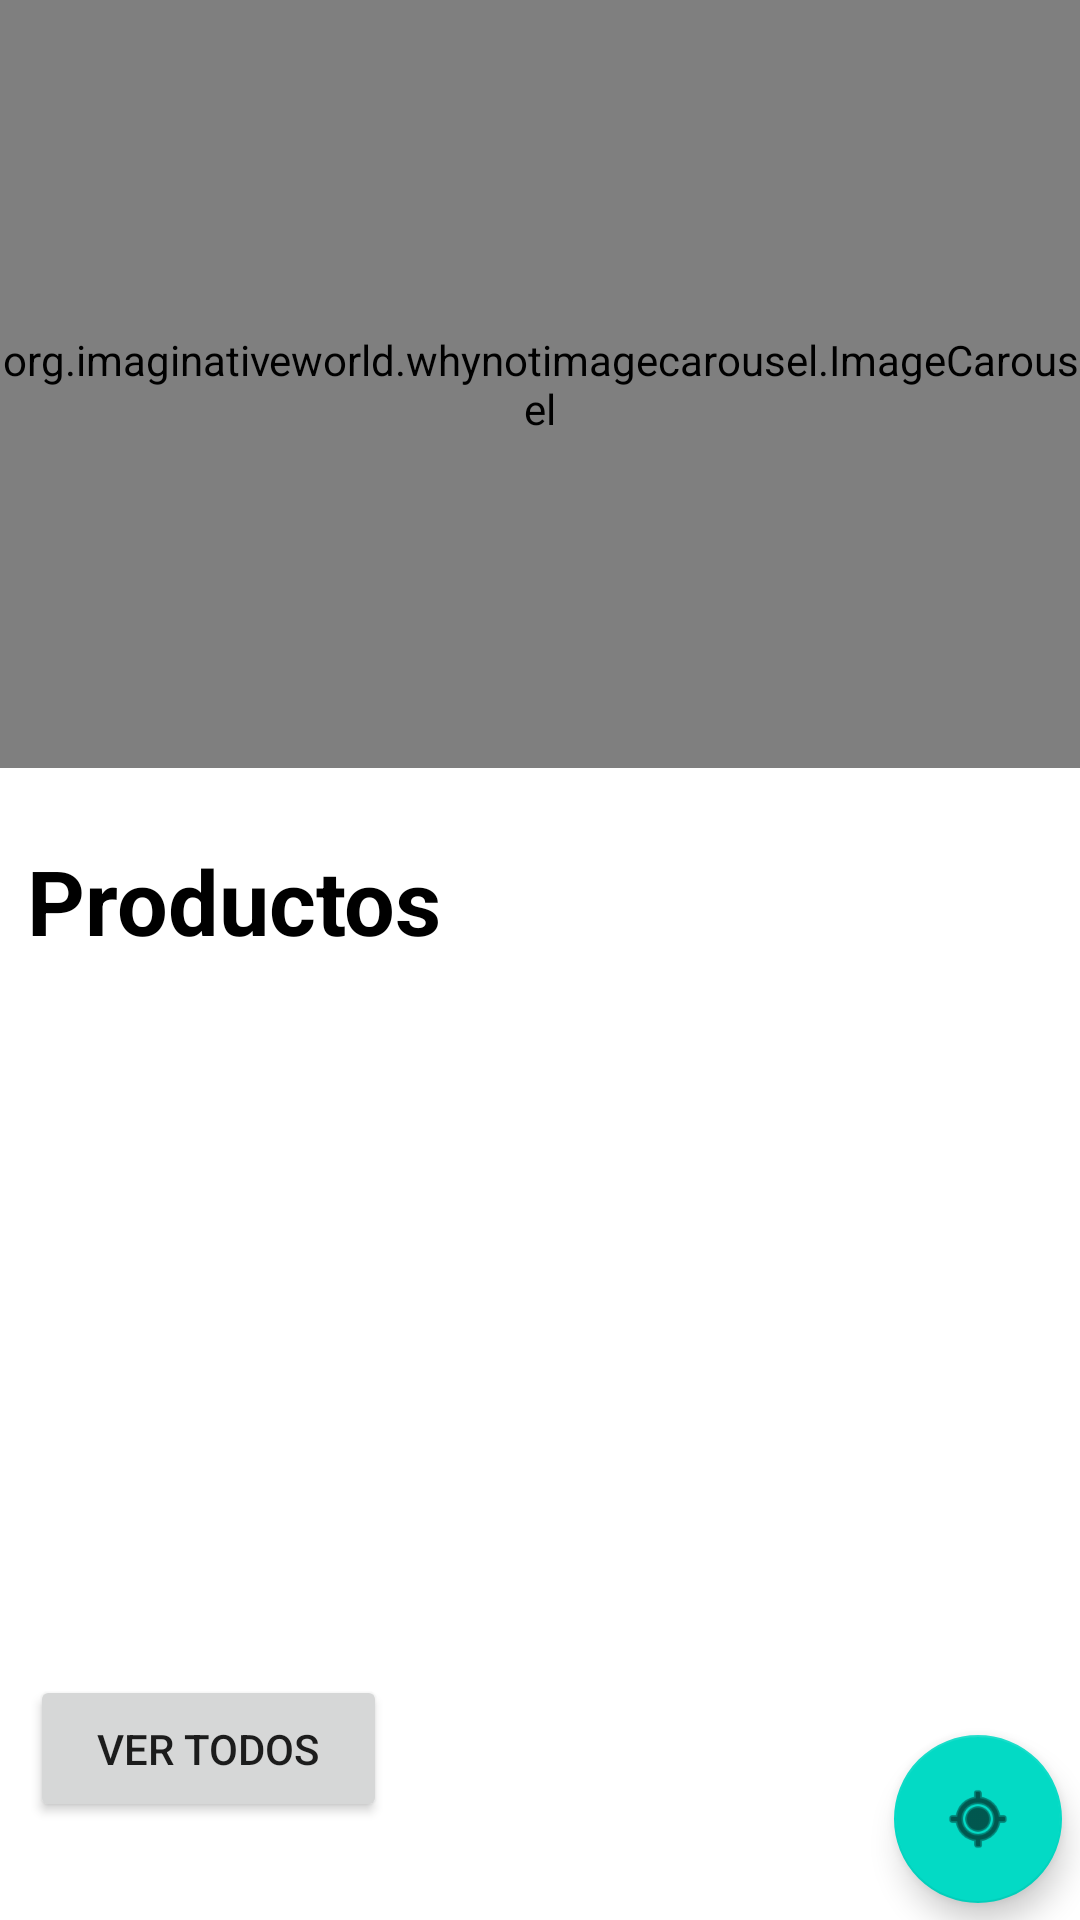

Locate icon controls on the screen. Image size 1080px×1920px, boxes as (x1, y1, x2, y2).
mylocation: (894, 1735, 1062, 1903)
